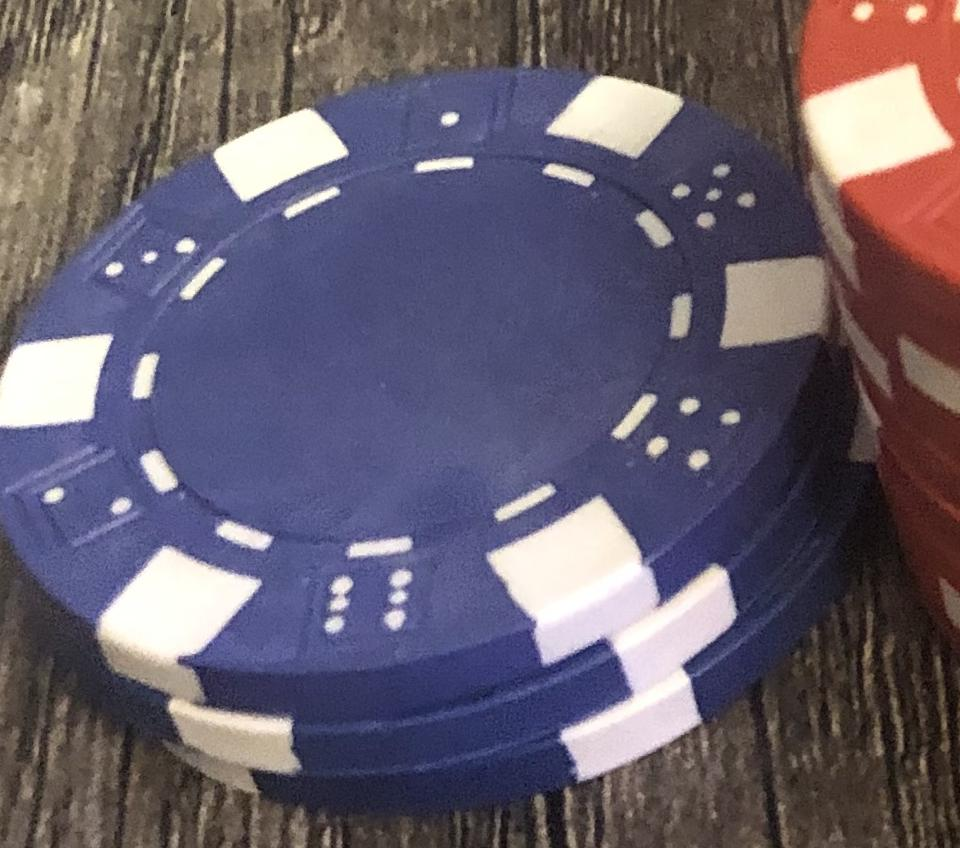Chip: (1, 1, 960, 848)
